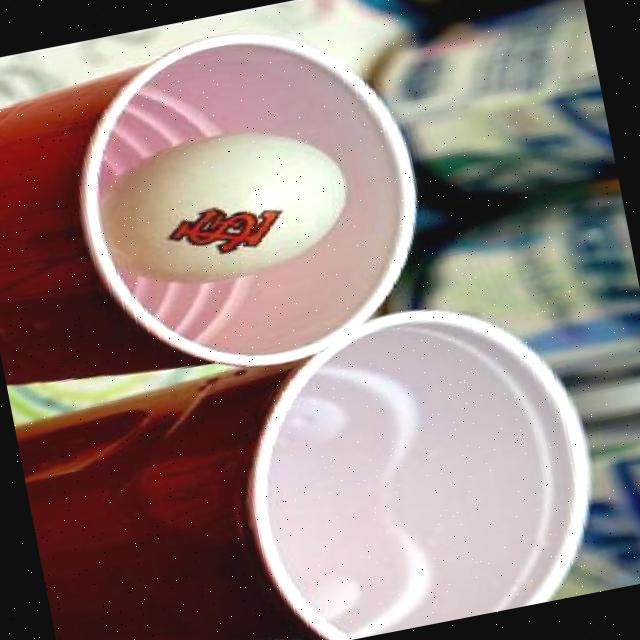ping-pong-ball: (87, 108, 367, 303)
